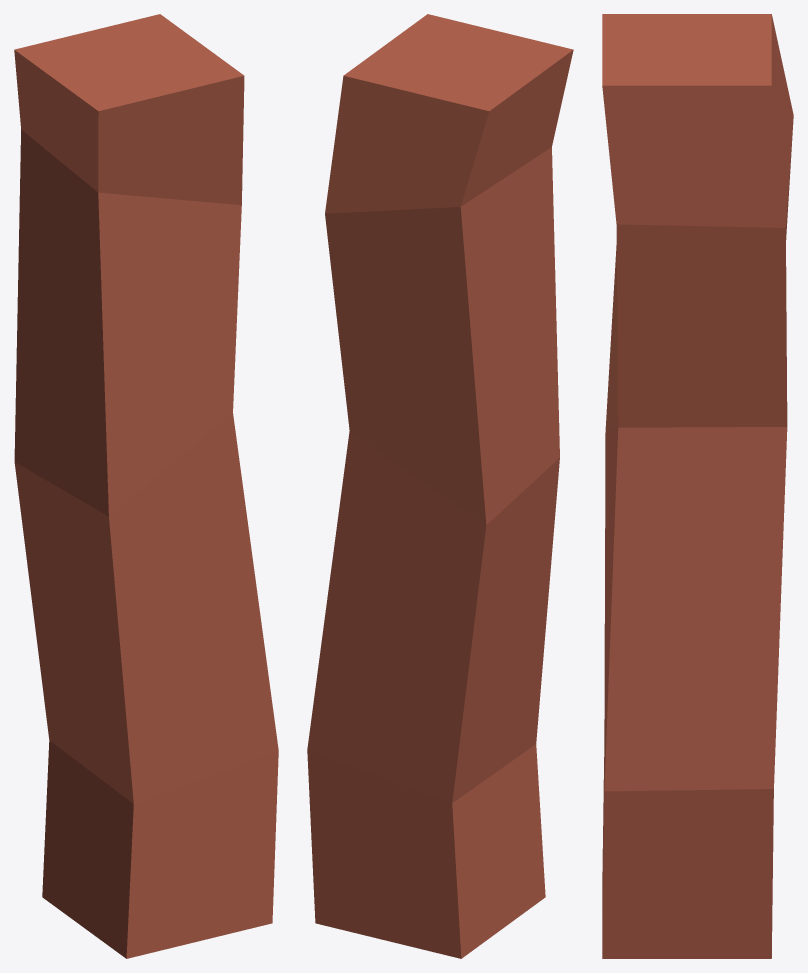
Rendered from wood_3b.fbx.
3 renders of one model, left to right at view 1: azimuth 30°, elevation 25°; view 2: azimuth 150°, elevation 25°; view 3: azimuth 270°, elevation 25°, orthographic.
Parts seen in each view (by area): view 1: wood_3b; view 2: wood_3b; view 3: wood_3b.
Part boxes in pixels (bbox=[...]): wood_3b: bbox=[14, 14, 278, 958]; wood_3b: bbox=[307, 14, 573, 958]; wood_3b: bbox=[602, 14, 793, 958].
Bounding box in the file's own units: 46.05 × 207 × 41.86.
